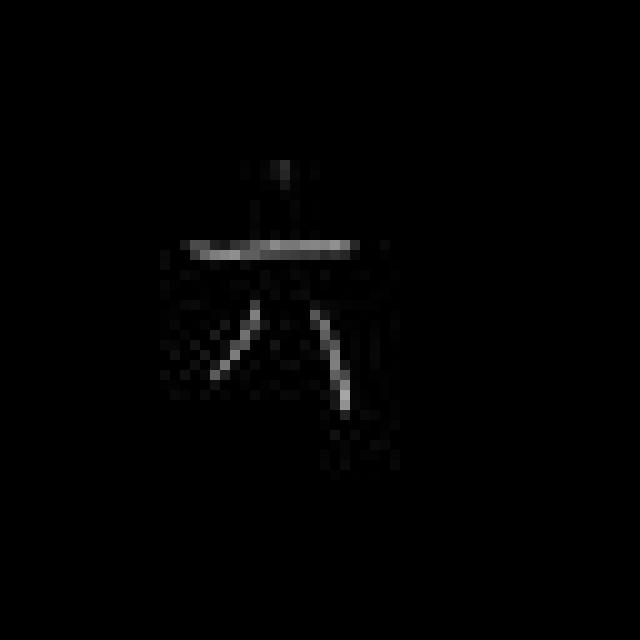6 -six-: (179, 144, 365, 426)
